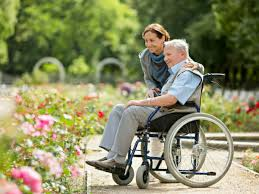wheelchair: (85, 39, 234, 189)
